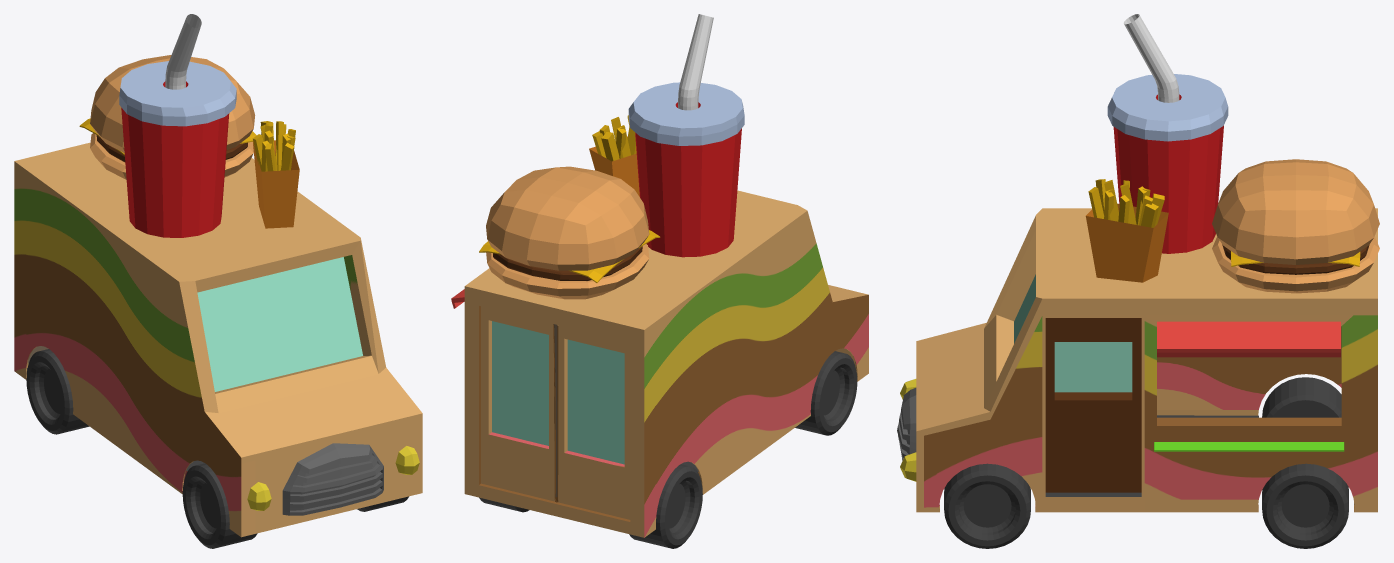
The model's file is FoodTruck_Hamburger.fbx.
3 renders of one model, left to right at view 1: azimuth 30°, elevation 25°; view 2: azimuth 150°, elevation 25°; view 3: azimuth 270°, elevation 25°, orthographic. The views are drawn at different scales.
Parts seen in each view (by area): view 1: Cube, Circle, RODA, Circle.001, Cube.006, Cube.008, Cube.011, Cube.021, Circle.002, Cube.007, Cube.005; view 2: Cube, Cube.008, Circle, RODA, Circle.001, Cube.007, Circle.002, Cube.021, Cube.009, Cube.011, Cube.010; view 3: Cube, RODA, Cube.008, Circle, Cube.013, Cube.001, Circle.001, Cube.011, Cube.007, Cube.021, Circle.002, Cube.009 (+1 smaller).
Part boxes in pixels (x1=…): Cube: x1=14, y1=142, x2=422, y2=537; Circle: x1=121, y1=81, x2=229, y2=237; RODA: x1=26, y1=349, x2=408, y2=548; Circle.001: x1=119, y1=61, x2=236, y2=126; Cube.006: x1=282, y1=443, x2=383, y2=515; Cube.008: x1=90, y1=55, x2=255, y2=152; Cube.011: x1=252, y1=140, x2=299, y2=228; Cube.021: x1=252, y1=121, x2=295, y2=171; Circle.002: x1=165, y1=14, x2=201, y2=89; Cube.007: x1=90, y1=133, x2=253, y2=179; Cube.005: x1=247, y1=446, x2=419, y2=510; Cube: x1=464, y1=190, x2=868, y2=537; Cube.008: x1=486, y1=166, x2=649, y2=270; Circle: x1=635, y1=102, x2=741, y2=257; RODA: x1=479, y1=351, x2=857, y2=548; Circle.001: x1=628, y1=82, x2=744, y2=145; Cube.007: x1=486, y1=244, x2=649, y2=299; Circle.002: x1=678, y1=14, x2=713, y2=110; Cube.021: x1=592, y1=115, x2=636, y2=161; Cube.009: x1=493, y1=246, x2=642, y2=280; Cube.011: x1=589, y1=136, x2=639, y2=196; Cube.010: x1=479, y1=230, x2=660, y2=282; Cube: x1=916, y1=208, x2=1377, y2=512; RODA: x1=944, y1=377, x2=1348, y2=548; Cube.008: x1=1212, y1=159, x2=1379, y2=264; Circle: x1=1113, y1=94, x2=1223, y2=253; Cube.013: x1=1157, y1=326, x2=1341, y2=409; Cube.001: x1=1157, y1=321, x2=1340, y2=357; Circle.001: x1=1107, y1=74, x2=1228, y2=141; Cube.011: x1=1085, y1=203, x2=1168, y2=282; Cube.007: x1=1212, y1=236, x2=1379, y2=293; Cube.021: x1=1088, y1=179, x2=1164, y2=227; Circle.002: x1=1123, y1=14, x2=1179, y2=102; Cube.009: x1=1222, y1=244, x2=1369, y2=274.
Size of the model in its own units: 461 by 936 by 870.
